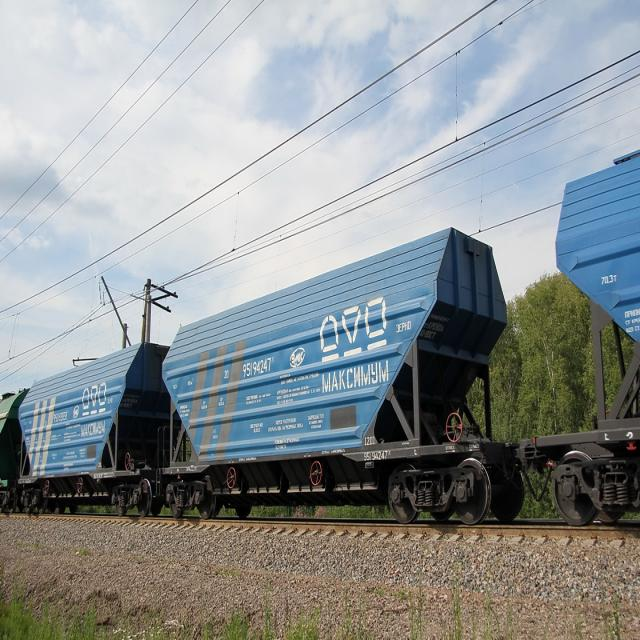hopper: (156, 219, 529, 540), (534, 136, 640, 535), (16, 329, 167, 524)
